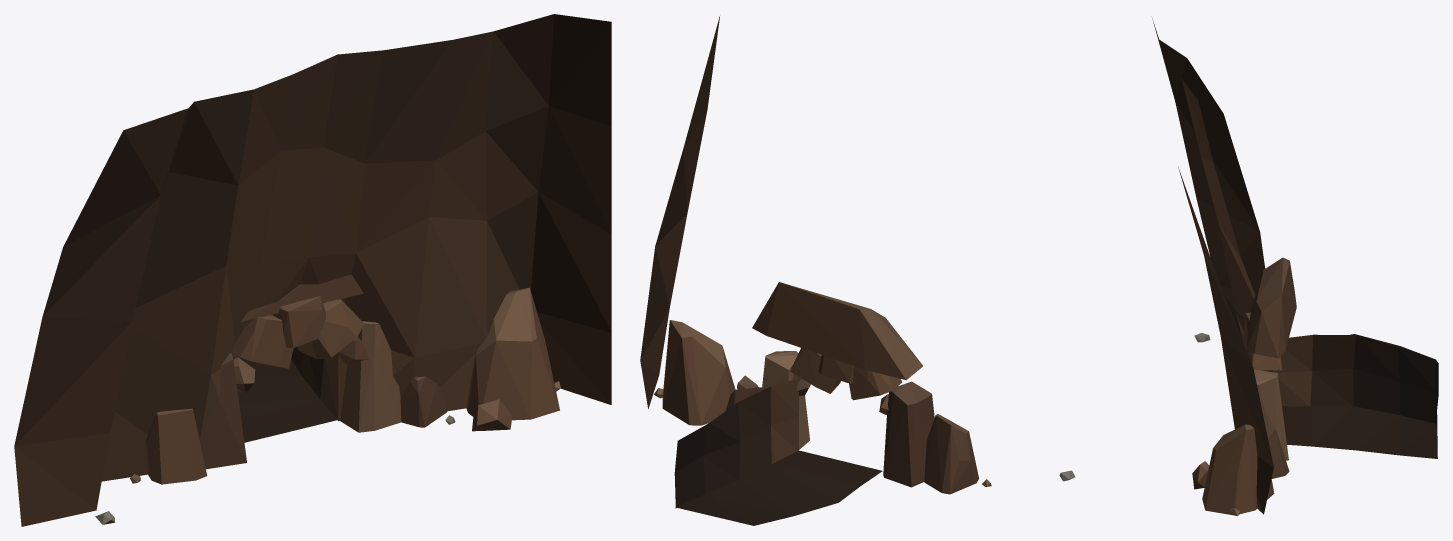
The model's file is tl_env_cave_wall_01_v01.glb.
The picture shows the model from 3 angles, left to right: view 1: azimuth 30°, elevation 25°; view 2: azimuth 150°, elevation 25°; view 3: azimuth 270°, elevation 25°; orthographic projection. The views are drawn at different scales.
Parts seen in each view (by area): view 1: tl_env_cave_wall_01_v01; view 2: tl_env_cave_wall_01_v01; view 3: tl_env_cave_wall_01_v01.
Part boxes in pixels (x1,y1,x2,y2): tl_env_cave_wall_01_v01: (14,14,611,526); tl_env_cave_wall_01_v01: (640,16,1075,525); tl_env_cave_wall_01_v01: (1152,18,1438,516).
Bounding box in the file's own units: 19.62 × 13.87 × 11.77.
